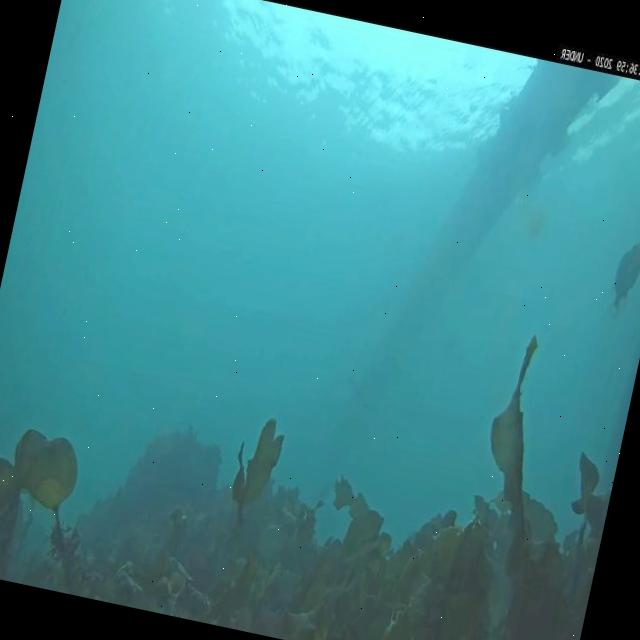fish: (607, 237, 640, 317), (337, 370, 379, 421)
